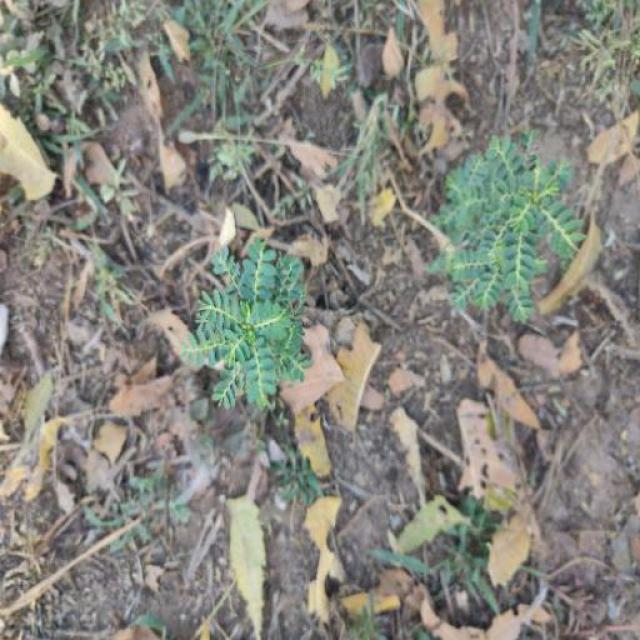weed: (428, 119, 590, 330), (189, 233, 330, 417)
